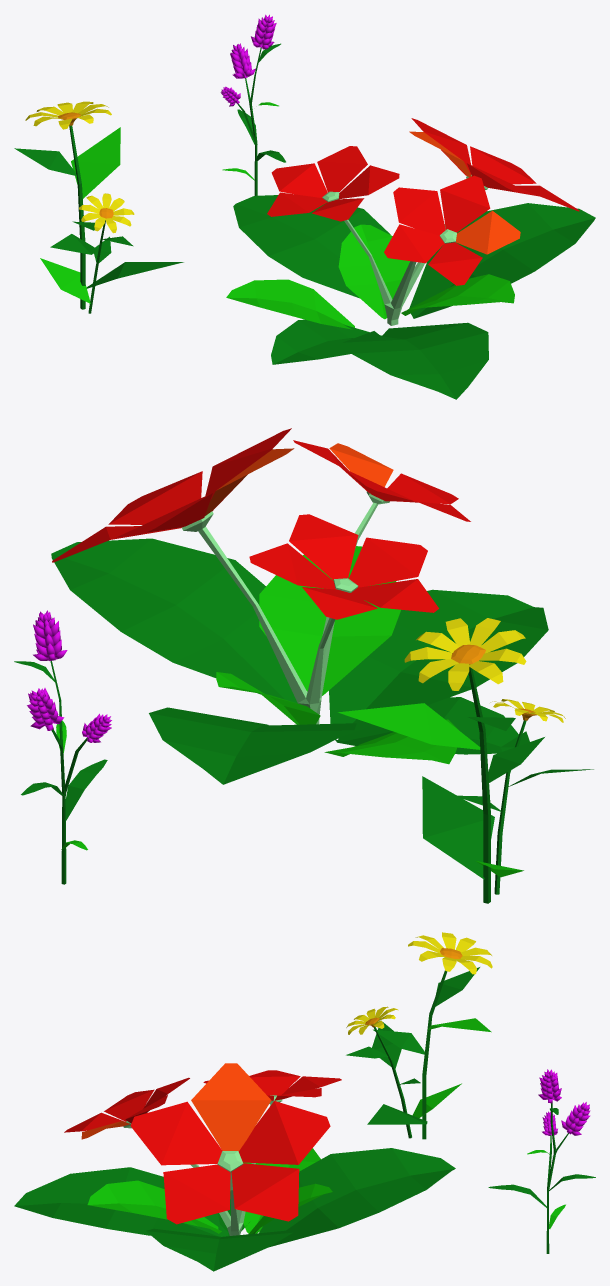
File: flowerpatchlowpoly.fbx
The picture shows the model from 3 angles, top to bottom: view 1: azimuth 30°, elevation 25°; view 2: azimuth 150°, elevation 25°; view 3: azimuth 270°, elevation 25°; orthographic projection. The views are drawn at different scales.
Parts seen in each view (by area): view 1: Cube.001; view 2: Cube.001; view 3: Cube.001.
Part boxes in pixels (left/top/right/bottom): Cube.001: left=14, top=14, right=595, bottom=399; Cube.001: left=14, top=428, right=593, bottom=903; Cube.001: left=14, top=932, right=595, bottom=1271.
Size of the model in its own units: 91.56 by 38.56 by 98.65.
